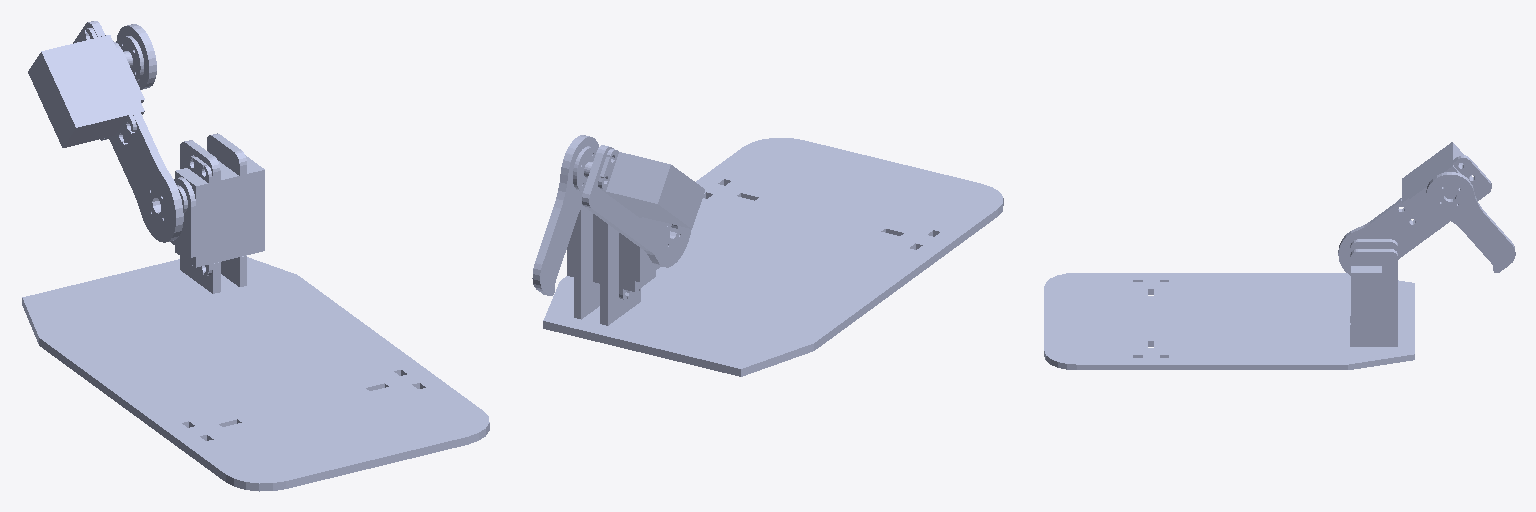
robot.urdf — Crawler_Rob:
<?xml version="1.0" encoding="utf-8"?>
<!-- This URDF was automatically created by SolidWorks to URDF Exporter! Originally created by [author] ([email redacted]) 
     Commit Version: 1.6.0-4-g7f85cfe  Build Version: 1.6.7995.38578
     For more information, please see http://wiki.ros.org/sw_urdf_exporter -->
<robot
  name="Crawler_Rob">
  <link
    name="base_link">
    <inertial>
      <origin
        xyz="0.067394 0.002 -0.083543"
        rpy="0 0 0" />
      <mass
        value="0.11995" />
      <inertia
        ixx="0.00050856"
        ixy="-1.4575E-22"
        ixz="-1.1589E-06"
        iyy="0.00068251"
        iyz="1.4041E-23"
        izz="0.00017426" />
    </inertial>
    <visual>
      <origin
        xyz="0 0 0"
        rpy="0 0 0" />
      <geometry>
        <mesh
          filename="package://Crawler_Rob/meshes/base_link.STL" />
      </geometry>
      <material
        name="">
        <color
          rgba="0.79216 0.81961 0.93333 1" />
      </material>
    </visual>
    <collision>
      <origin
        xyz="0 0 0"
        rpy="0 0 0" />
      <geometry>
        <mesh
          filename="package://Crawler_Rob/meshes/base_link.STL" />
      </geometry>
    </collision>
  </link>
  <link
    name="Link_1">
    <inertial>
      <origin
        xyz="-0.05908 0.0029131 0.0096743"
        rpy="0 0 0" />
      <mass
        value="0.040296" />
      <inertia
        ixx="5.5459E-06"
        ixy="-2.0201E-07"
        ixz="1.3913E-07"
        iyy="1.308E-05"
        iyz="5.2993E-23"
        izz="1.0886E-05" />
    </inertial>
    <visual>
      <origin
        xyz="0 0 0"
        rpy="0 0 0" />
      <geometry>
        <mesh
          filename="package://Crawler_Rob/meshes/Link_1.STL" />
      </geometry>
      <material
        name="">
        <color
          rgba="0.79216 0.81961 0.93333 1" />
      </material>
    </visual>
    <collision>
      <origin
        xyz="0 0 0"
        rpy="0 0 0" />
      <geometry>
        <mesh
          filename="package://Crawler_Rob/meshes/Link_1.STL" />
      </geometry>
    </collision>
  </link>
  <joint
    name="Base"
    type="fixed">
    <origin
      xyz="0.1095 0.175 -0.021"
      rpy="3.1416 1.5708 0" />
    <parent
      link="base_link" />
    <child
      link="Link_1" />
    <axis
      xyz="0 0 0" />
  </joint>
  <link
    name="Link_2">
    <inertial>
      <origin
        xyz="0.0032708 -0.052312 -0.022567"
        rpy="0 0 0" />
      <mass
        value="0.040888" />
      <inertia
        ixx="1.6971E-05"
        ixy="-5.4279E-07"
        ixz="-2.8693E-20"
        iyy="5.6108E-06"
        iyz="1.3913E-07"
        izz="1.4841E-05" />
    </inertial>
    <visual>
      <origin
        xyz="0 0 0"
        rpy="0 0 0" />
      <geometry>
        <mesh
          filename="package://Crawler_Rob/meshes/Link_2.STL" />
      </geometry>
      <material
        name="">
        <color
          rgba="0.79216 0.81961 0.93333 1" />
      </material>
    </visual>
    <collision>
      <origin
        xyz="0 0 0"
        rpy="0 0 0" />
      <geometry>
        <mesh
          filename="package://Crawler_Rob/meshes/Link_2.STL" />
      </geometry>
    </collision>
  </link>
  <joint
    name="J1"
    type="revolute">
    <origin
      xyz="-0.07085 0.0048895 0.026"
      rpy="3.1416 0 2.4623" />
    <parent
      link="Link_1" />
    <child
      link="Link_2" />
    <axis
      xyz="0 0 1" />
    <limit
      lower="0"
      upper="0"
      effort="0"
      velocity="0" />
  </joint>
  <link
    name="Link_3">
    <inertial>
      <origin
        xyz="-0.018102 -0.00015262 -0.0036341"
        rpy="0 0 0" />
      <mass
        value="0.006685" />
      <inertia
        ixx="2.8345E-07"
        ixy="-3.7711E-08"
        ixz="5.3914E-23"
        iyy="2.7068E-06"
        iyz="1.8481E-23"
        izz="2.9726E-06" />
    </inertial>
    <visual>
      <origin
        xyz="0 0 0"
        rpy="0 0 0" />
      <geometry>
        <mesh
          filename="package://Crawler_Rob/meshes/Link_3.STL" />
      </geometry>
      <material
        name="">
        <color
          rgba="0.79216 0.81961 0.93333 1" />
      </material>
    </visual>
    <collision>
      <origin
        xyz="0 0 0"
        rpy="0 0 0" />
      <geometry>
        <mesh
          filename="package://Crawler_Rob/meshes/Link_3.STL" />
      </geometry>
    </collision>
  </link>
  <joint
    name="J2"
    type="revolute">
    <origin
      xyz="0.0048895 -0.07085 0"
      rpy="3.1416 0 0" />
    <parent
      link="Link_2" />
    <child
      link="Link_3" />
    <axis
      xyz="0 0 1" />
    <limit
      lower="0"
      upper="0"
      effort="0"
      velocity="0" />
  </joint>
</robot>

--- What the picture shows (computed from the rendered views, not written in the file) ---
The picture shows the robot from 3 angles, left to right: view 1: azimuth 30°, elevation 25°; view 2: azimuth 150°, elevation 25°; view 3: azimuth 270°, elevation 25°; orthographic projection.
Robot: Crawler_Rob — 4 links, 3 joints (2 revolute, 1 fixed); root link base_link; default pose: every joint at zero.
Visible links, largest first — view 1: base_link, Link_2, Link_1, Link_3; view 2: base_link, Link_2, Link_1, Link_3; view 3: base_link, Link_2, Link_1, Link_3.
Boxes of the visible links, x1,y1,x2,y2 form: base_link: [22, 257, 489, 491]; Link_2: [28, 21, 183, 242]; Link_1: [170, 133, 264, 293]; Link_3: [100, 24, 156, 140]; base_link: [543, 138, 1003, 376]; Link_2: [582, 145, 704, 267]; Link_1: [567, 205, 660, 325]; Link_3: [532, 135, 598, 295]; base_link: [1044, 273, 1414, 369]; Link_2: [1338, 142, 1491, 275]; Link_1: [1350, 239, 1397, 346]; Link_3: [1426, 172, 1515, 272].
Size in the robot's own frame: 0.135 by 0.2927 by 0.1164 metres.
Meshes: 4 distinct files referenced, 4 mesh visuals loaded (4 binary STL).